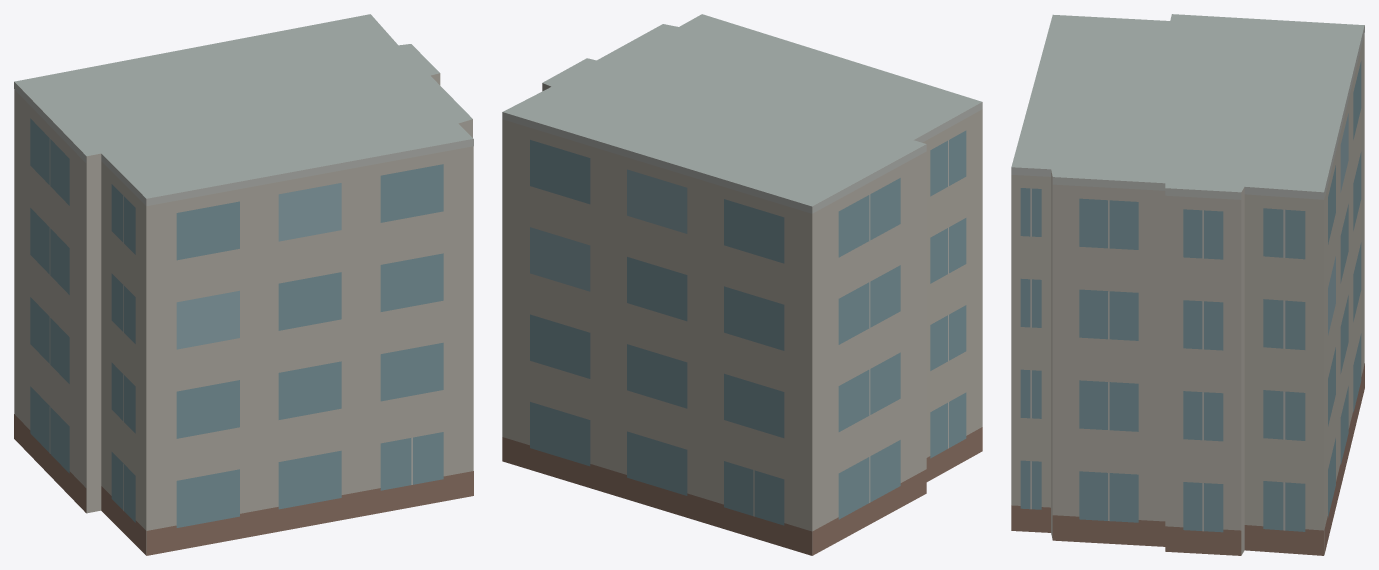
Rendered from survey-upis-32586274.glb.
3 renders of one model, left to right at view 1: azimuth 30°, elevation 25°; view 2: azimuth 150°, elevation 25°; view 3: azimuth 270°, elevation 25°, orthographic. The views are drawn at different scales.
Parts seen in each view (by area): view 1: survey-upis-32586274.tmp; view 2: survey-upis-32586274.tmp; view 3: survey-upis-32586274.tmp.
Boxes of the visible parts, x1,y1,x2,y2 form: survey-upis-32586274.tmp: [14, 14, 473, 555]; survey-upis-32586274.tmp: [502, 14, 982, 555]; survey-upis-32586274.tmp: [1011, 14, 1364, 555].
Bounding box in the file's own units: 12.32 × 11.7 × 10.32.
